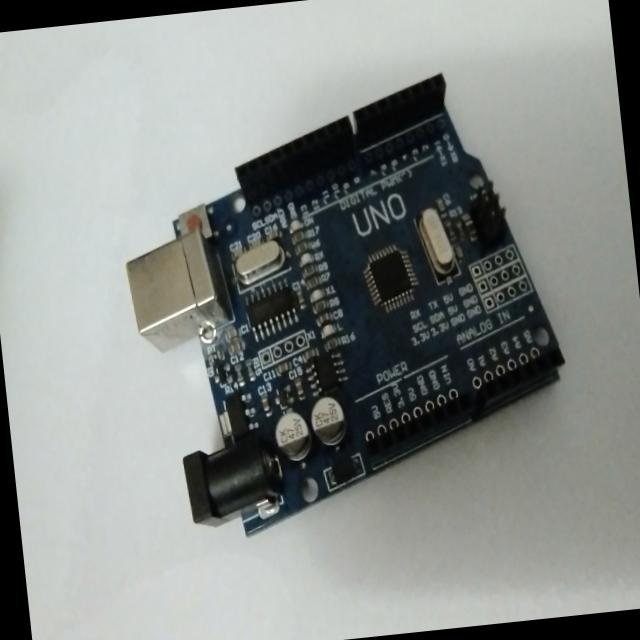arduino: (114, 52, 585, 540)
